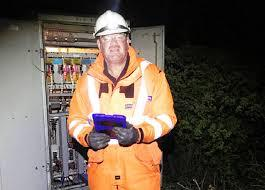safe person: (65, 9, 177, 190)
